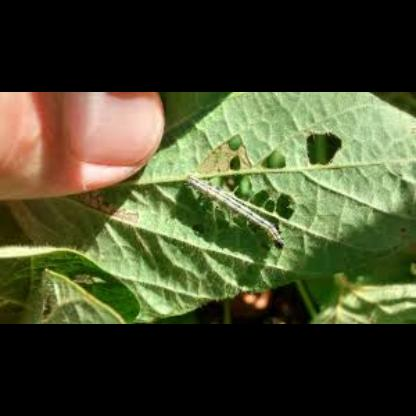agujero: (305, 130, 343, 166), (221, 176, 254, 198), (260, 150, 288, 172), (249, 188, 273, 210), (223, 133, 249, 153), (277, 194, 293, 223), (228, 154, 242, 173), (190, 221, 206, 237), (264, 196, 276, 216)
